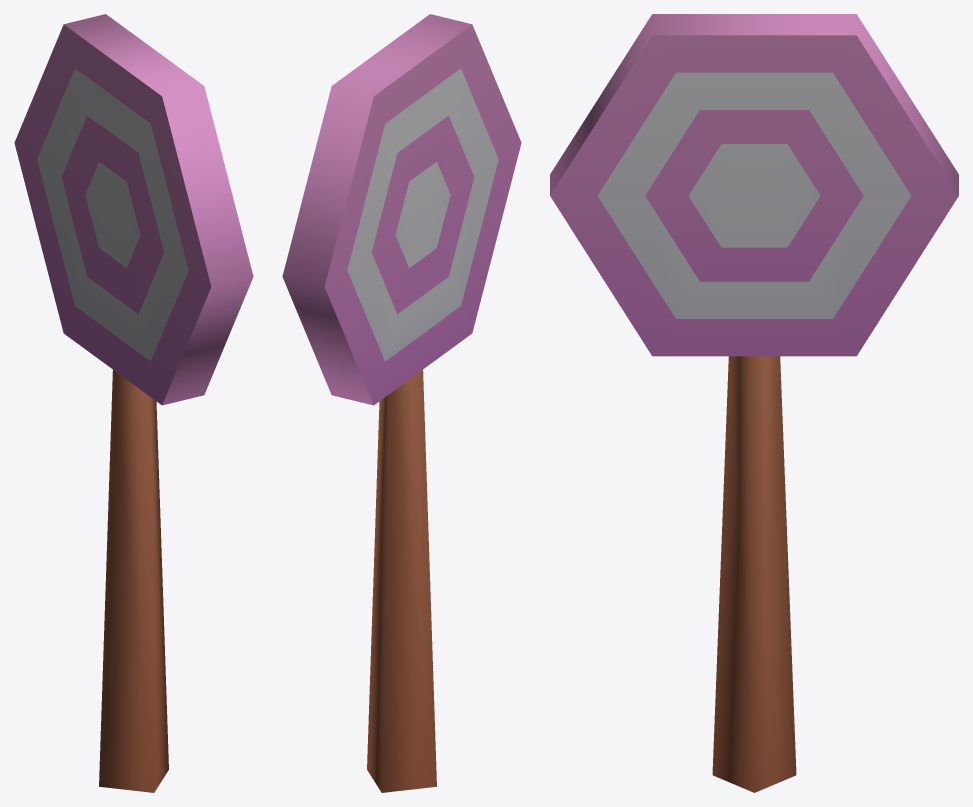
The model's file is lollypop.glb.
The picture shows the model from 3 angles, left to right: view 1: azimuth 30°, elevation 25°; view 2: azimuth 150°, elevation 25°; view 3: azimuth 270°, elevation 25°; orthographic projection. The views are drawn at different scales.
Parts seen in each view (by area): view 1: lollypop; view 2: lollypop; view 3: lollypop.
Boxes of the visible parts, box(x1,y1,x2,y2) form: lollypop: box(14, 14, 253, 792); lollypop: box(282, 14, 521, 792); lollypop: box(550, 14, 958, 792).
Size of the model in its own units: 0.0385 by 0.3798 by 0.1875.
